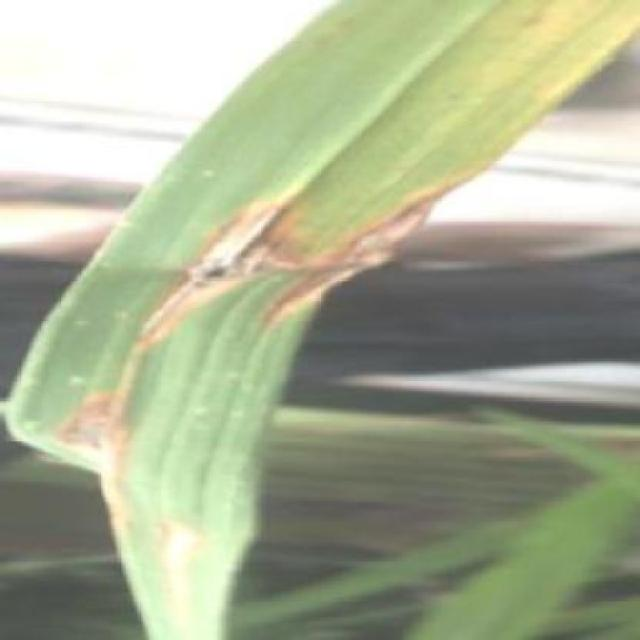Bacterial_Leaf_Blight: (267, 164, 481, 328), (137, 166, 312, 357), (15, 341, 150, 522), (138, 481, 252, 630), (496, 0, 636, 109)
